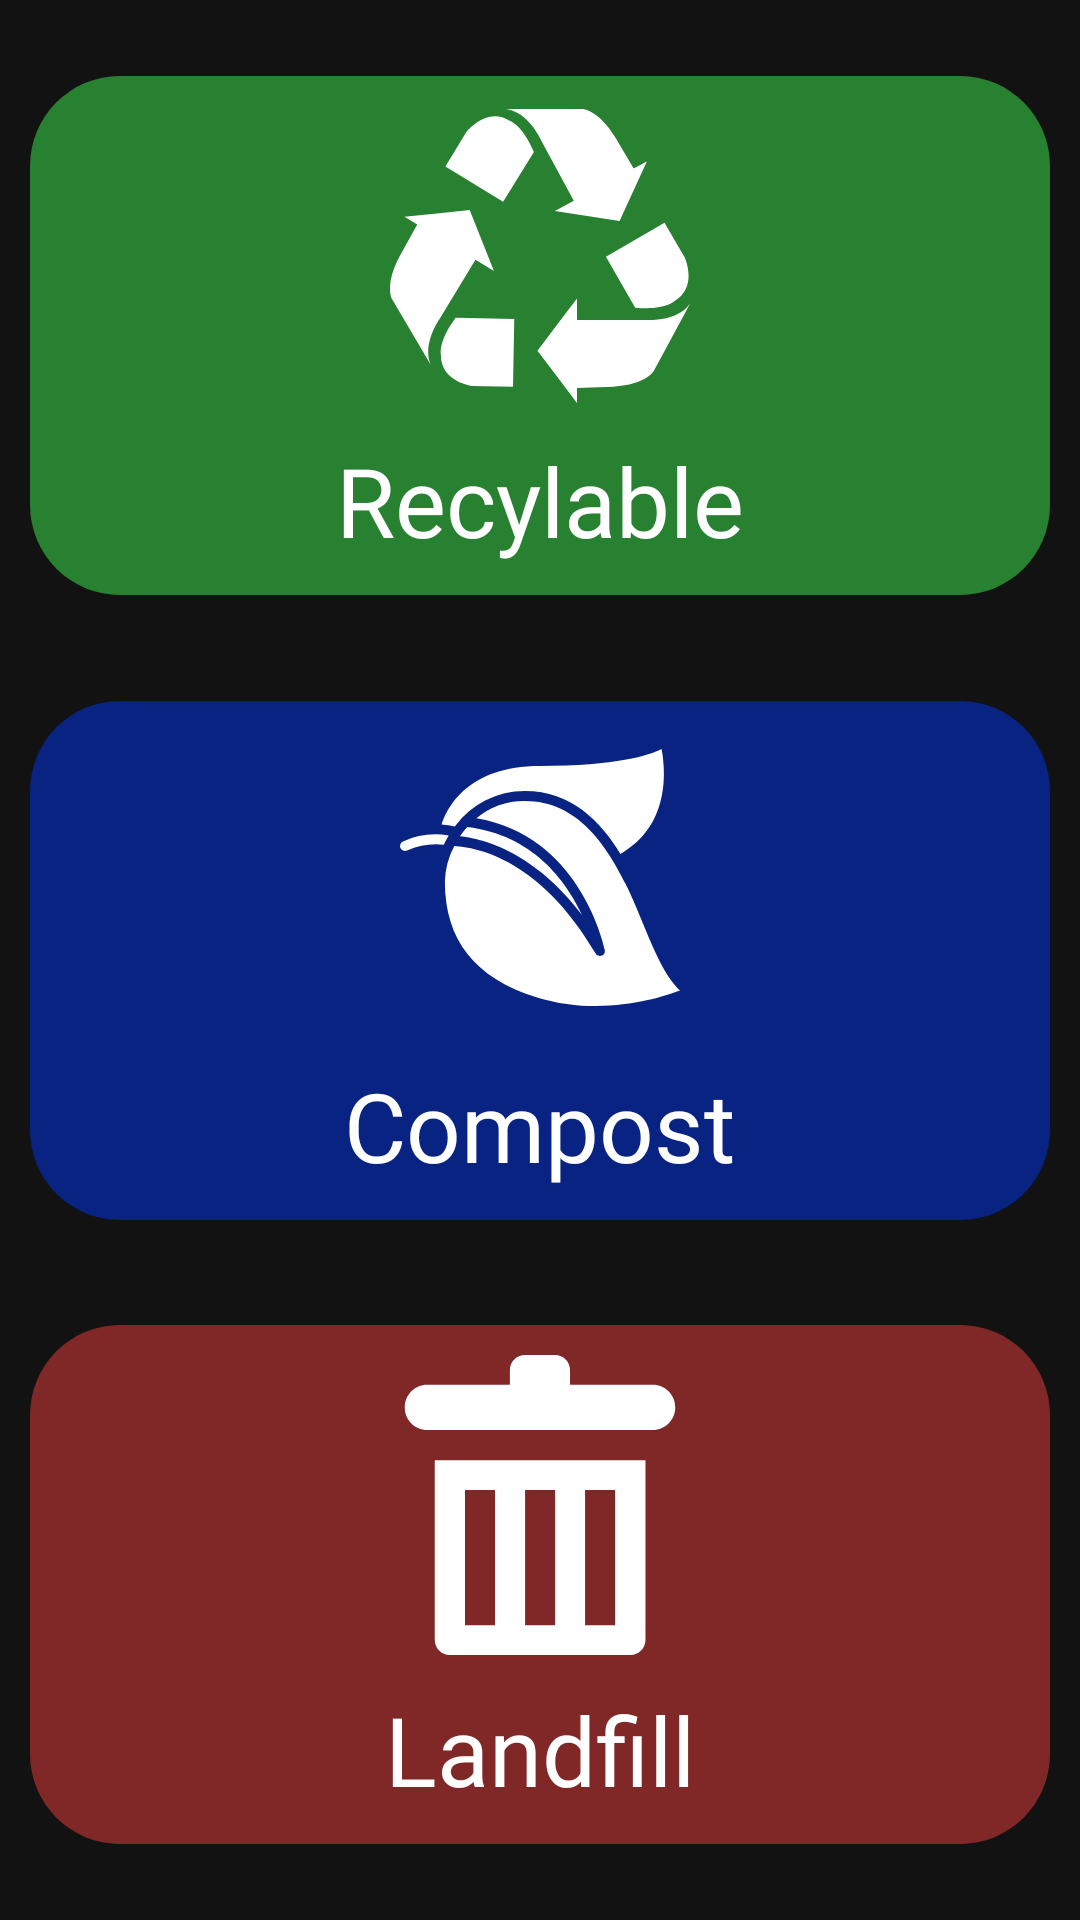

Icon bounding boxes for this 1080px x 1920px phone screenshot, format bbox(x1, y1, x2, y2):
leaf: bbox(400, 749, 680, 1006)
trash: bbox(404, 1355, 676, 1655)
